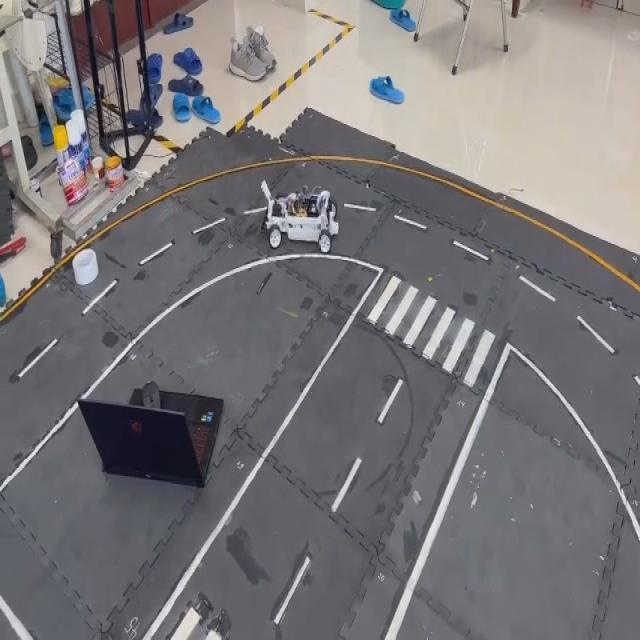SiCo-CAR: (259, 177, 339, 255)
